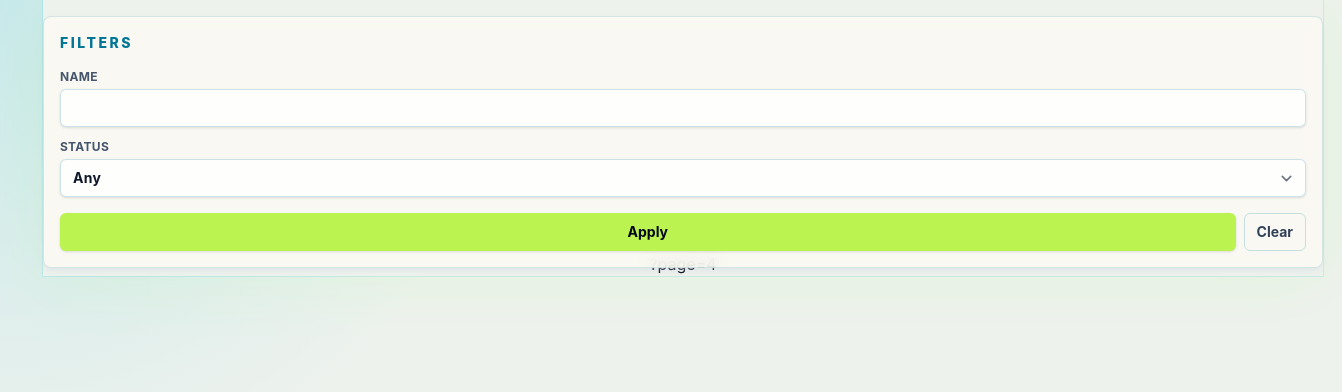
Test case: FilterPanel › applies non-empty filters and resets to page 1
This screenshot has width=1342, height=392.
Type "Rick" into the field labelled "Name" at (683, 108), box [60,89,1306,127]
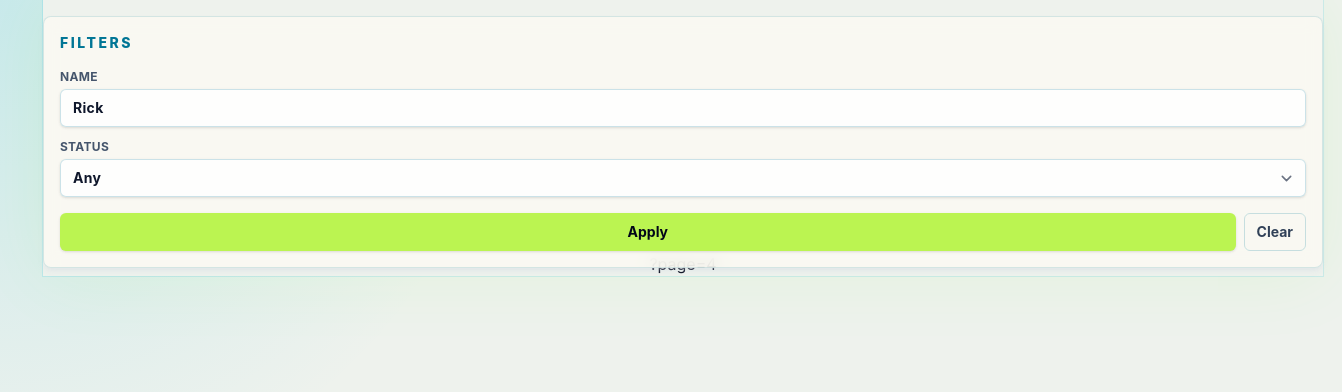
Select "Dead" in the dropdown labelled "Status" at (683, 178), box [60,159,1306,197]
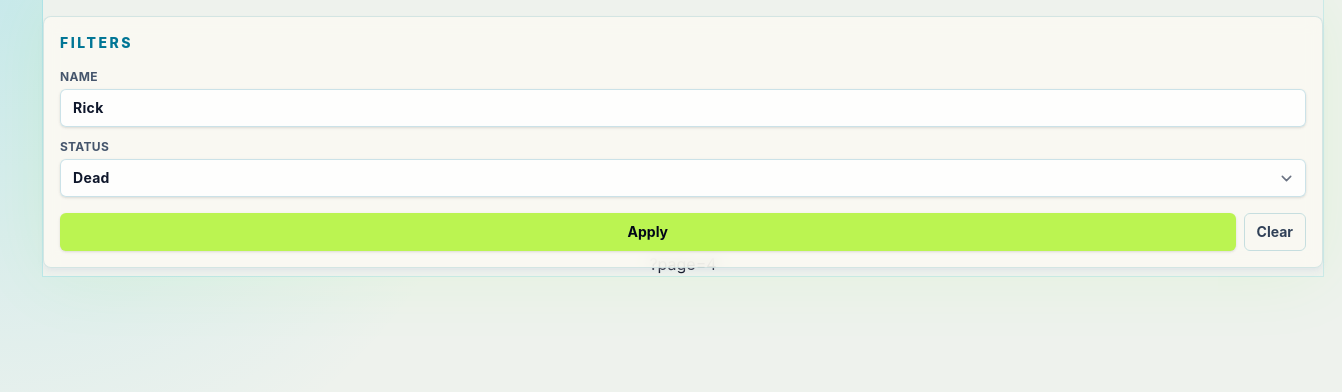
Submit the text "Apply", box [60,69,1306,251]
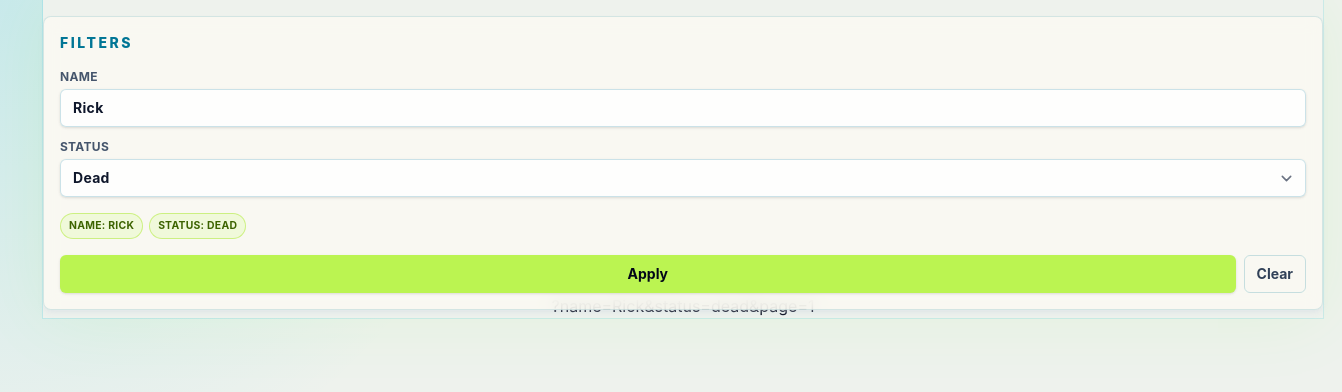
expect the text with test id "location-search" reads "?name=Rick&status=dead&page=1": met, box [552,296,814,316]
